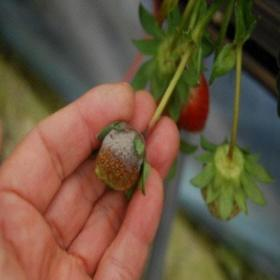Gray Mold: (94, 120, 151, 201)
